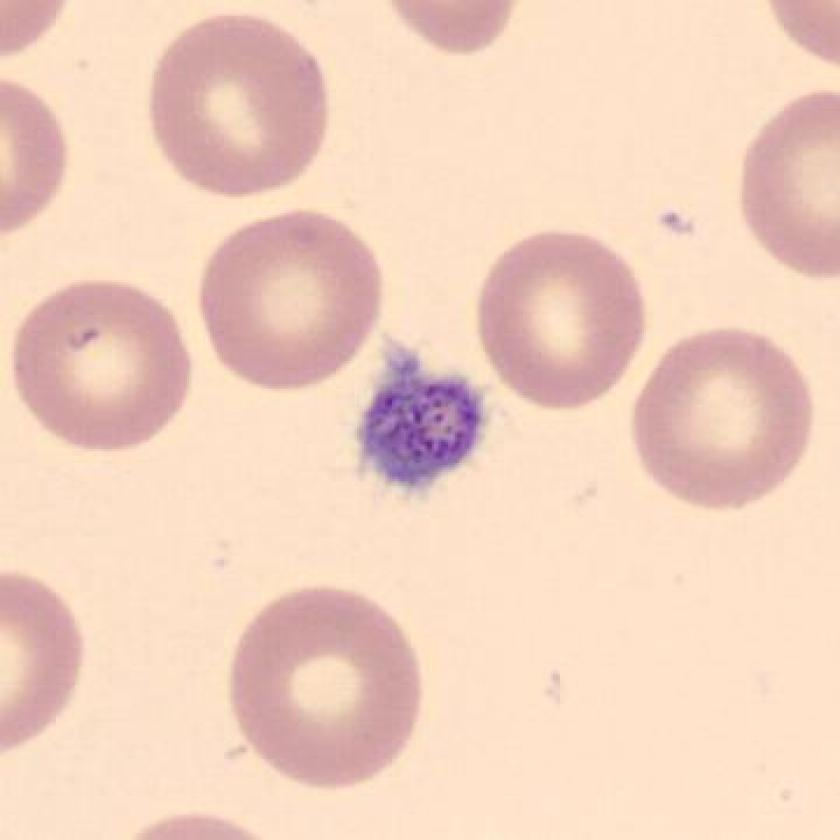platelets: (342, 353, 498, 505)
